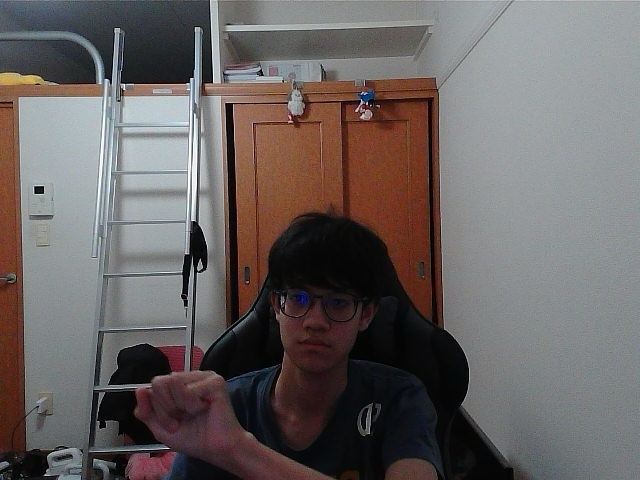closed_palm: (143, 381, 215, 448)
